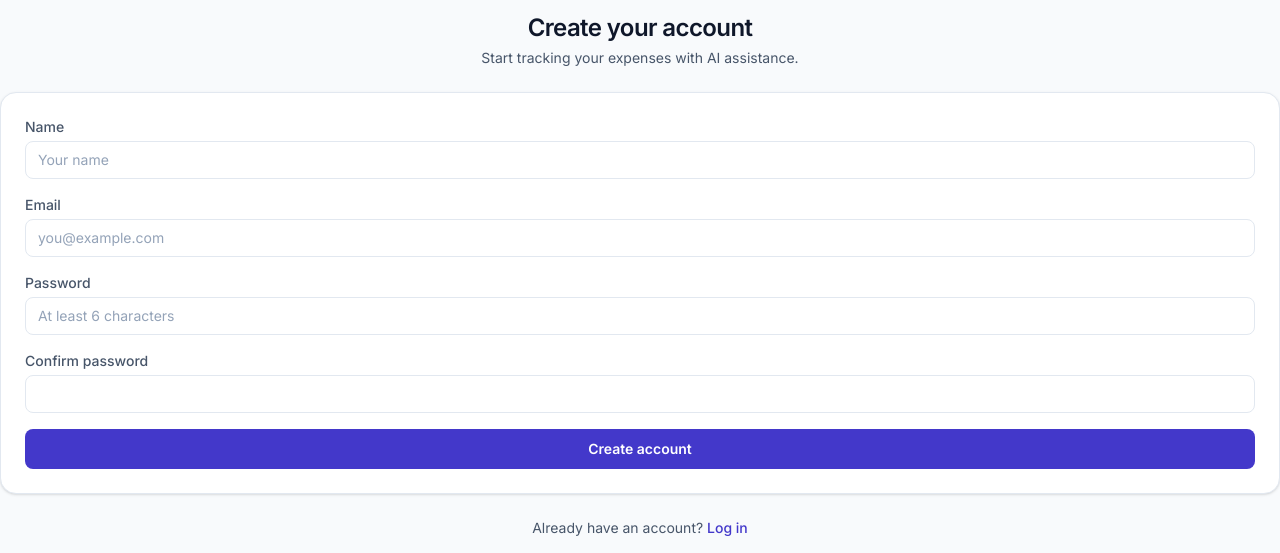
RegisterPage › shows a check-your-email panel instead of the form when confirmation is required
In the field labelled "Name": (640, 160) [25,141,1255,179], type "Jordan Rivera"
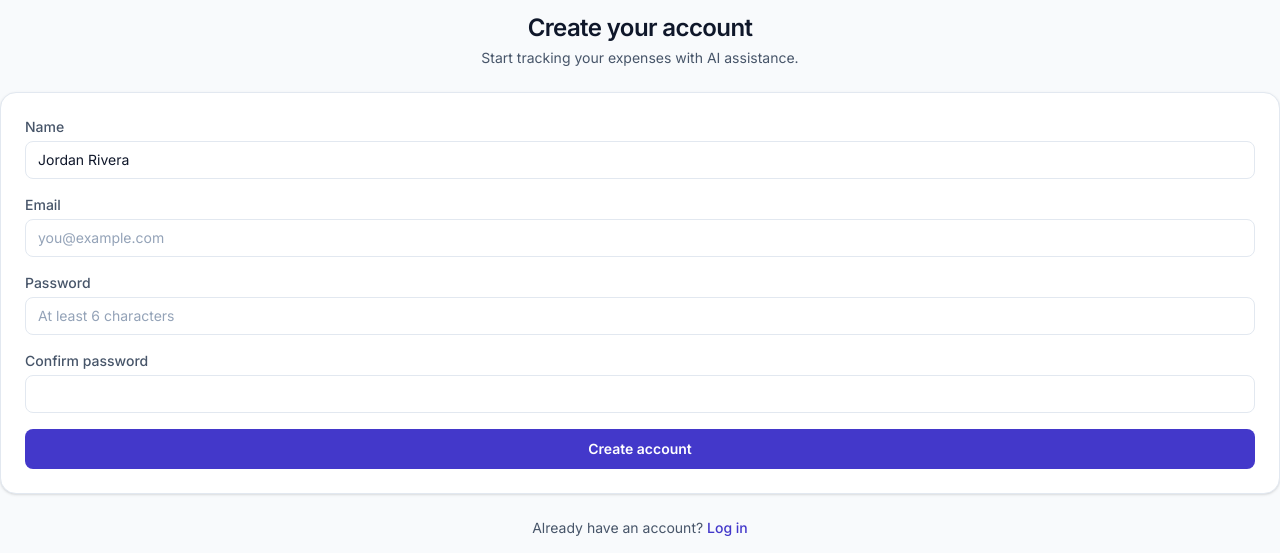
In the field labelled "Email": (640, 238) [25,219,1255,257], type "jordan@example.com"
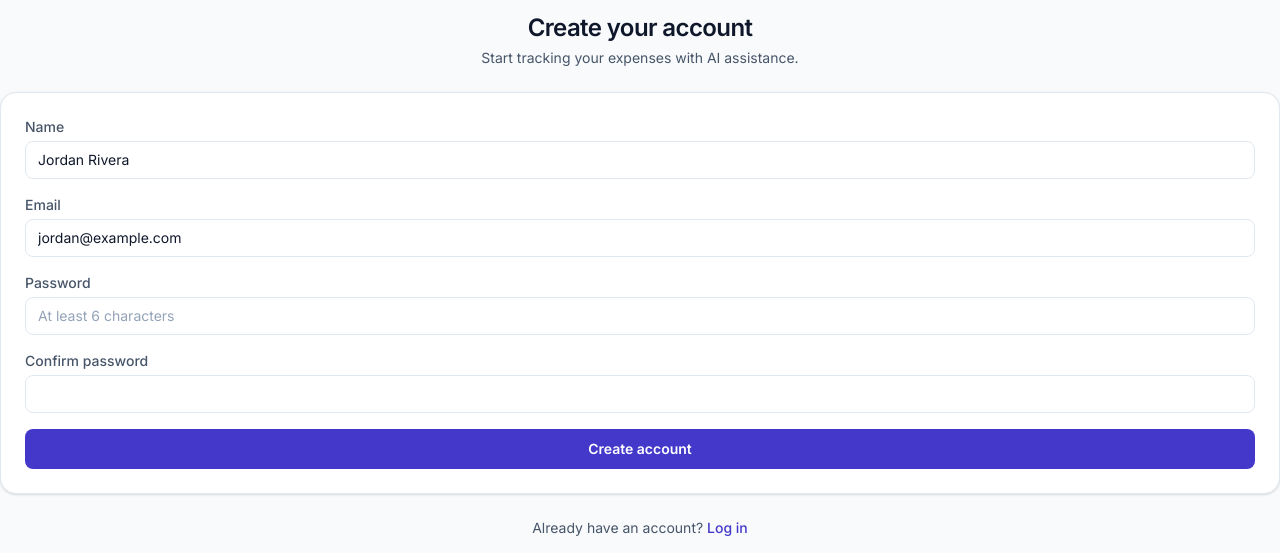
In the password field labelled "Password": (640, 316) [25,297,1255,335], type "password123"
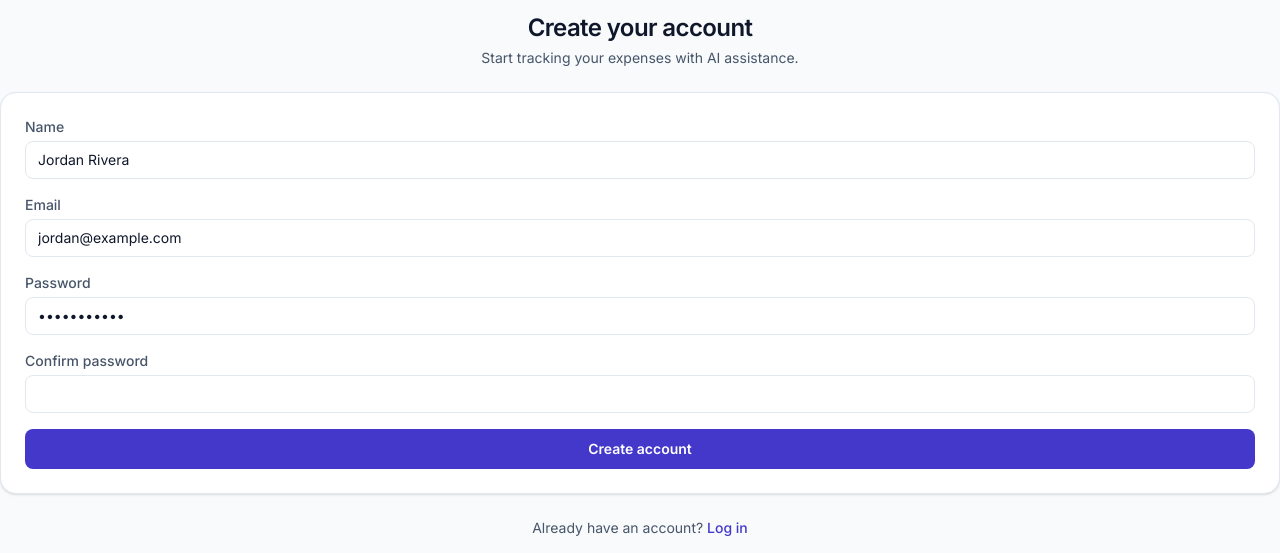
In the password field labelled "Confirm password": (640, 394) [25,375,1255,413], type "password123"
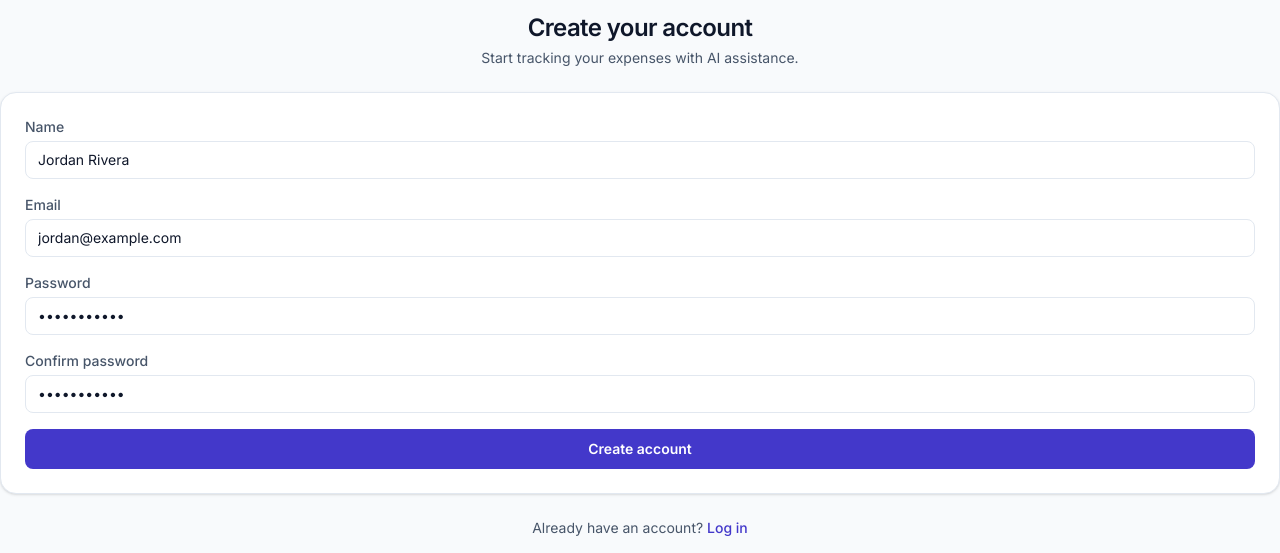
Submit the form "Name Email Password Confirm password Create account"
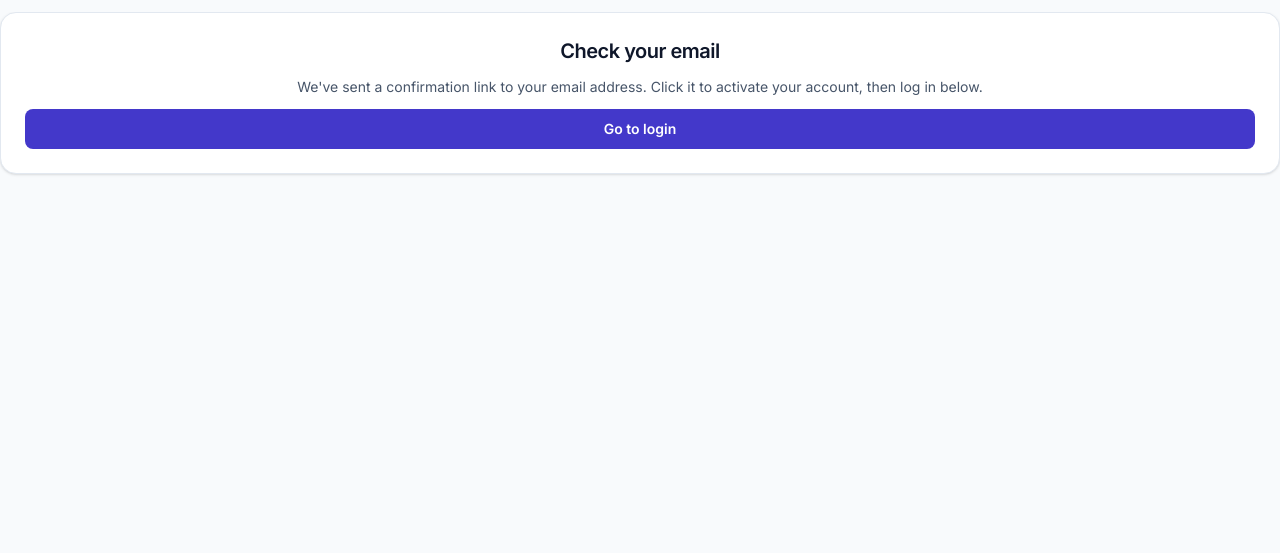
expect the heading "Check your email" is shown: met, box [560,37,720,65]
expect the label labelled "Name" is gone: met
